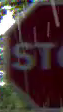Stop: (4, 1, 62, 111)
